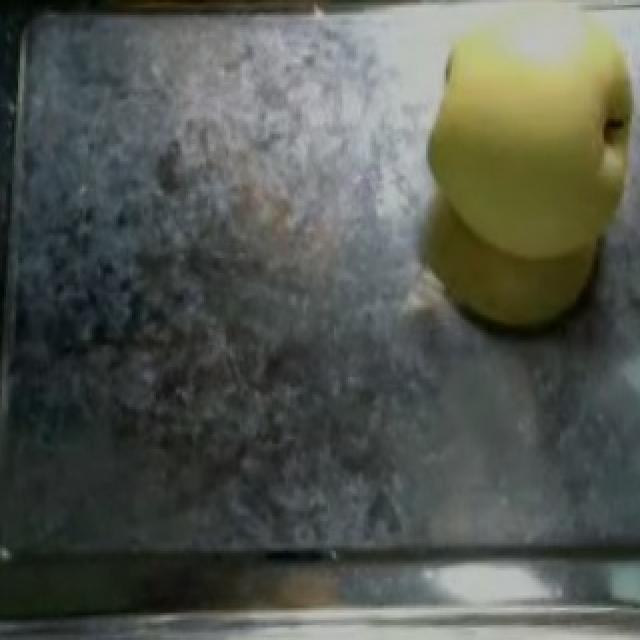Fruit: (388, 0, 640, 308)
